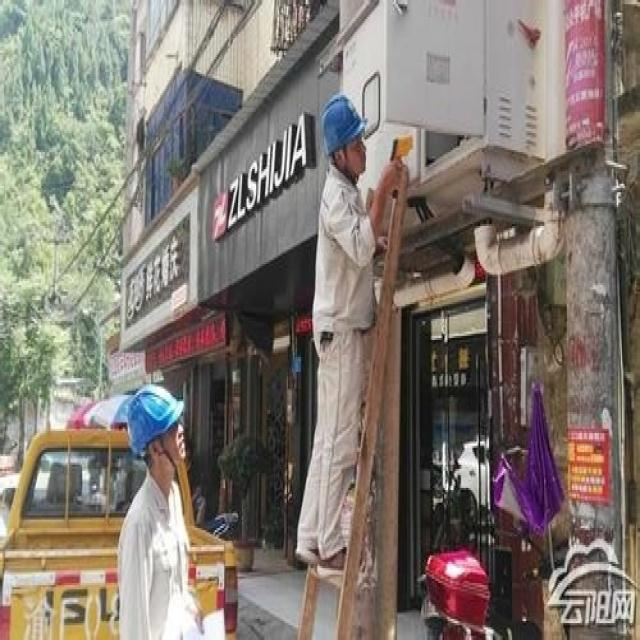helmet: (128, 513, 187, 640), (321, 124, 372, 233)
